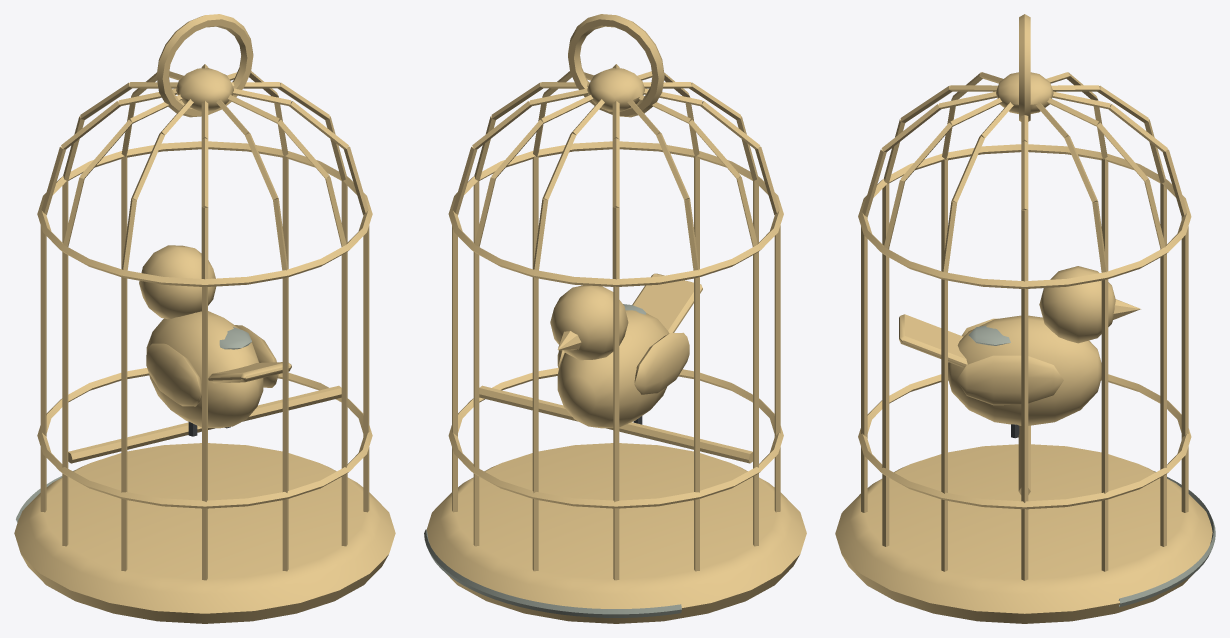
File: canary.glb
The picture shows the model from 3 angles, left to right: view 1: azimuth 30°, elevation 25°; view 2: azimuth 150°, elevation 25°; view 3: azimuth 270°, elevation 25°; orthographic projection.
Parts seen in each view (by area): view 1: body; view 2: body; view 3: body.
Part boxes in pixels (x1,y1,x2,y2): body: (14,14,395,623); body: (424,14,806,623); body: (835,14,1215,623).
Size of the model in its own units: 0.156 by 0.2398 by 0.1566.
